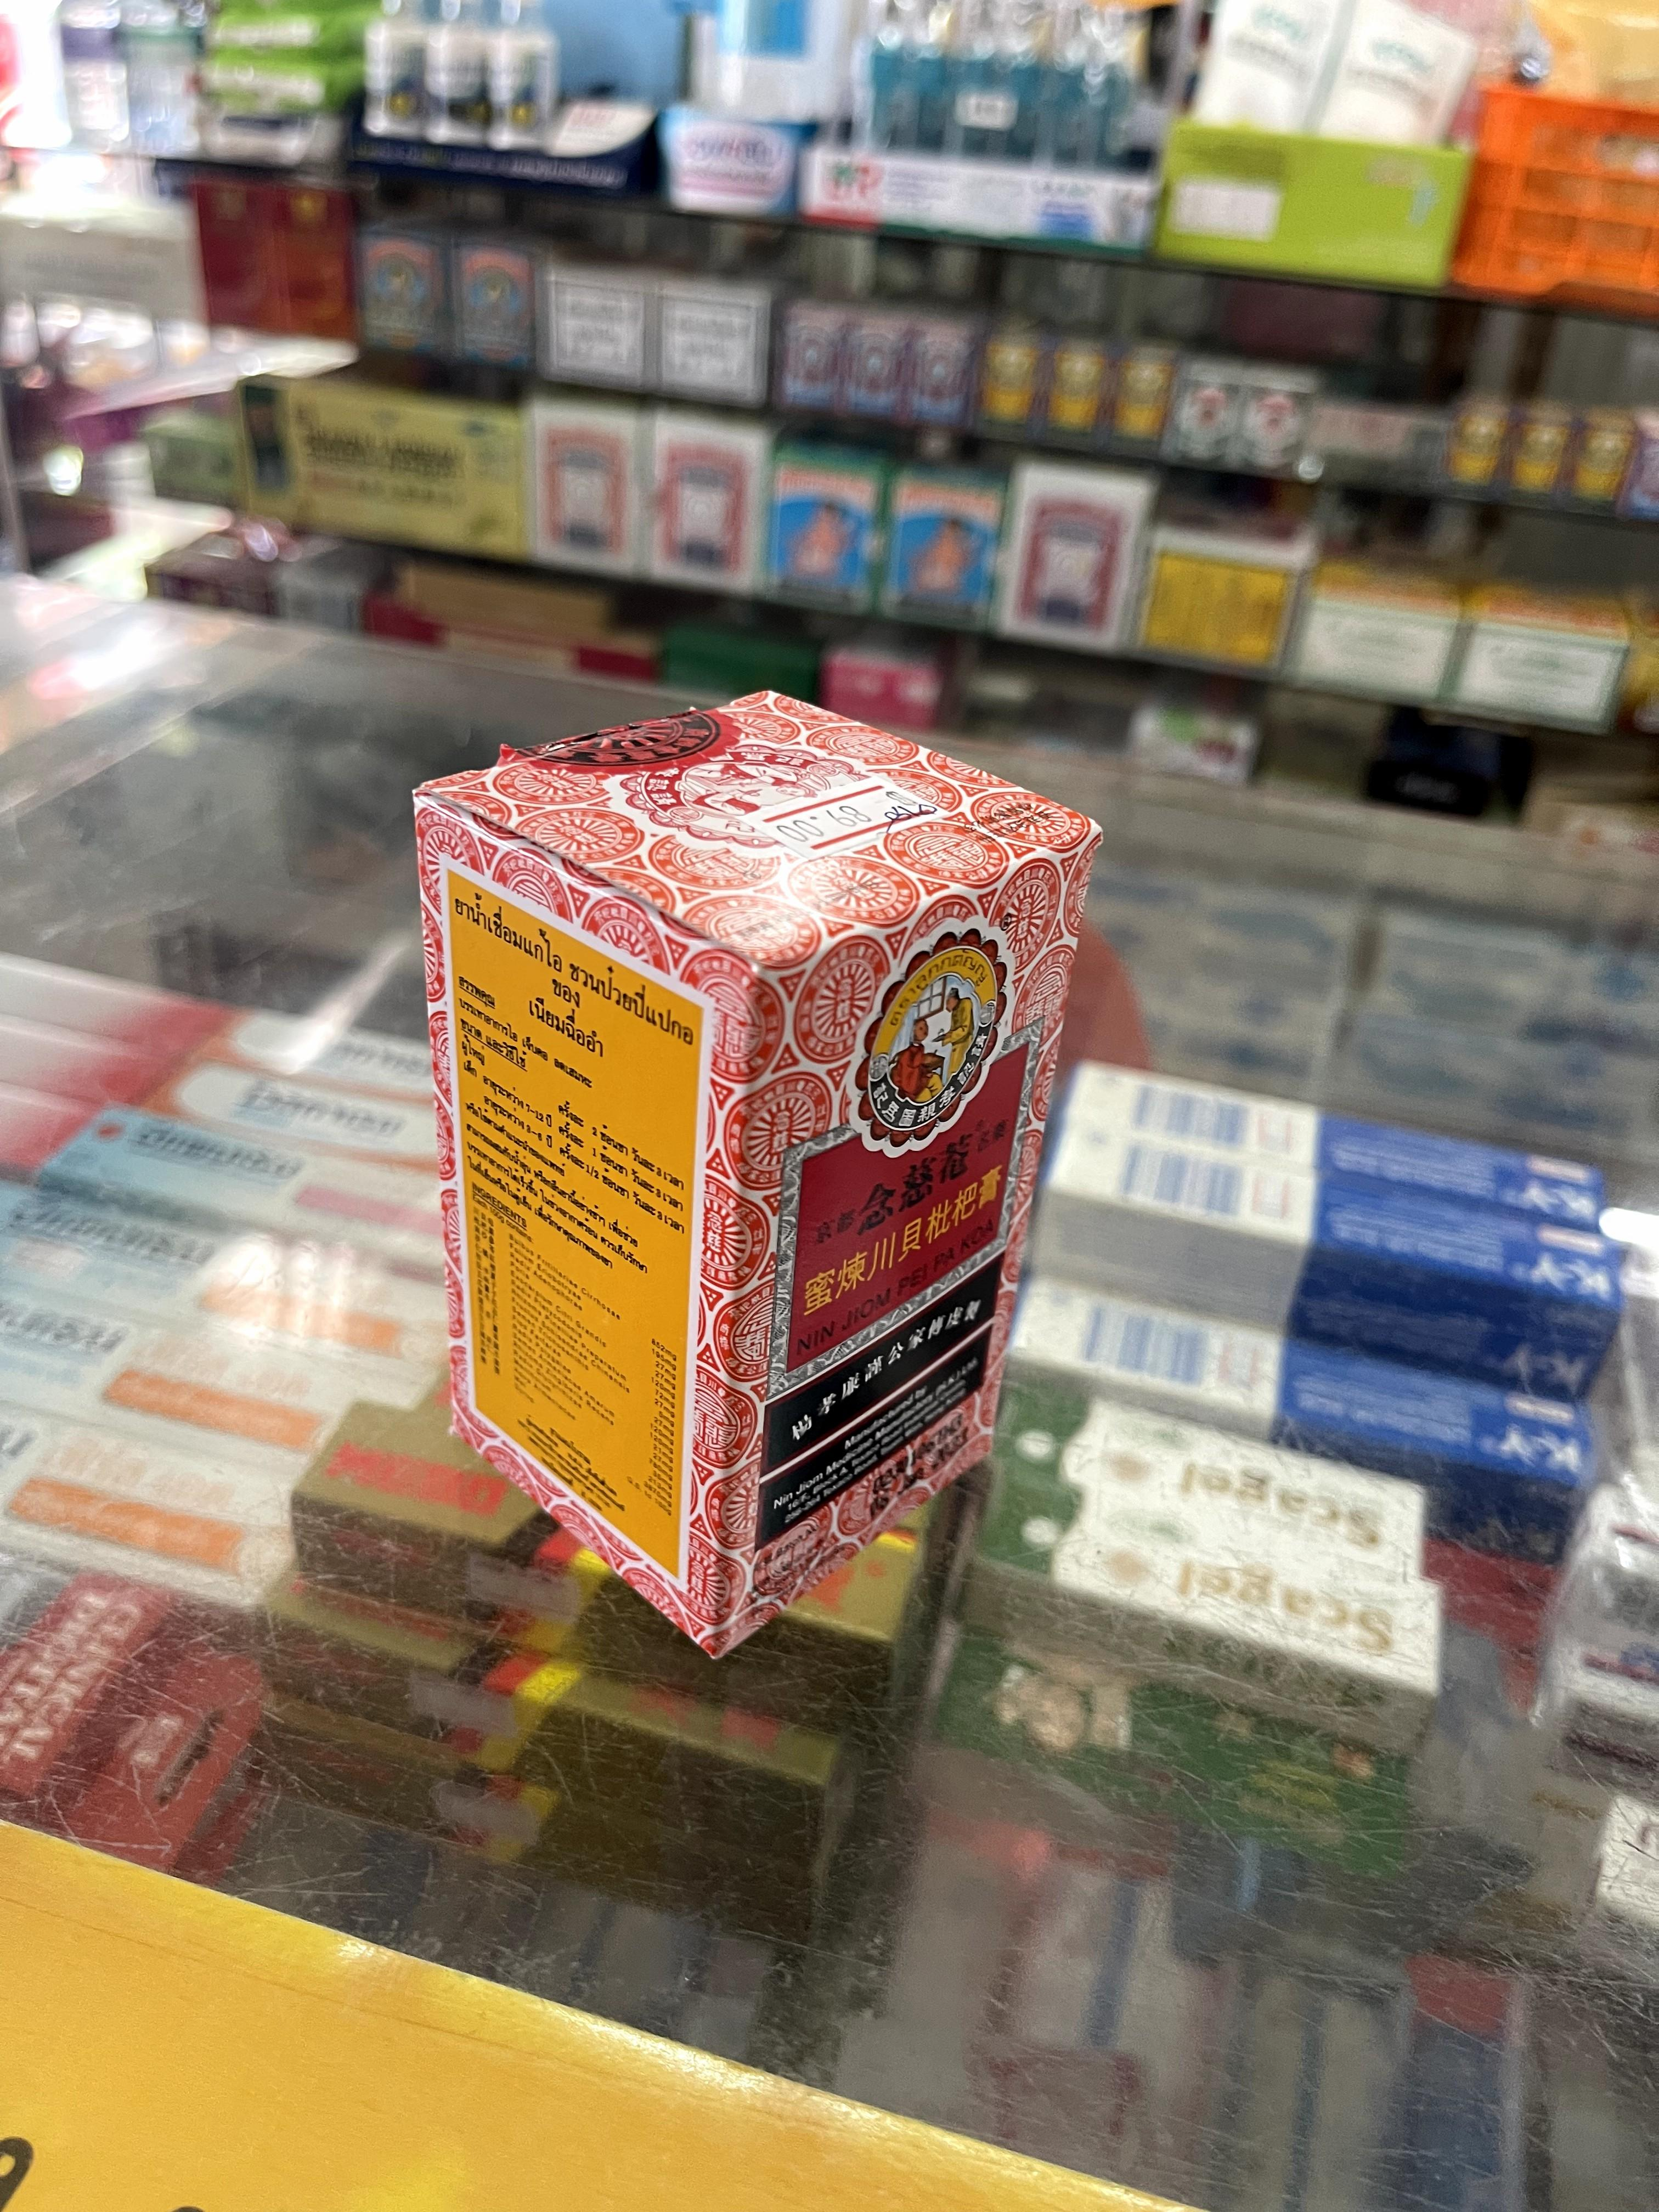Pei-Pa-Koa: (416, 693, 1105, 1651)
